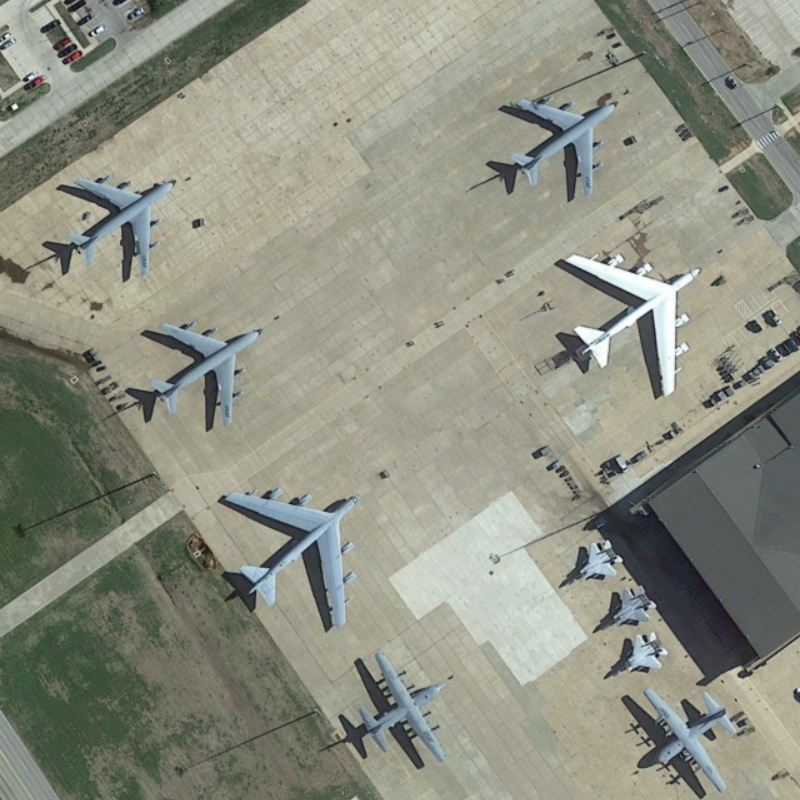A13: (599, 630, 676, 683), (586, 586, 667, 633), (565, 531, 626, 589)
A14: (495, 80, 626, 202), (135, 316, 269, 431), (53, 164, 181, 281)
A2: (342, 644, 461, 769), (626, 680, 749, 795)
A8: (548, 235, 714, 412), (213, 481, 371, 633)
